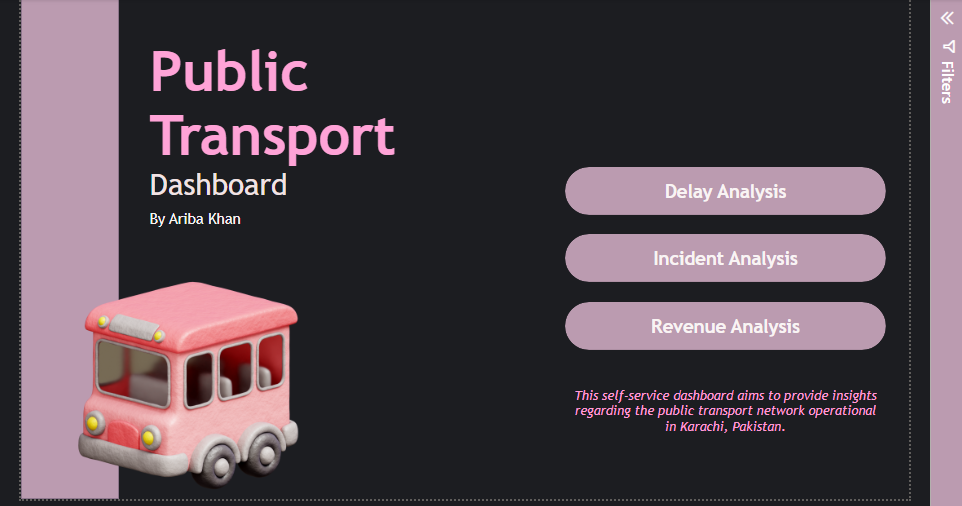

The dashboard page shown, as its layout file describes it:
{"tool":"powerbi","page":{"name":"Main Page","canvas":[1280,720],"ordinal":0},"visuals":[{"type":"textbox","box":[180,51.8,521.3,247.7],"z":0},{"type":"actionButton","title":"Delay Analysis","box":[783.4,241.9,462.2,69.1],"z":1000},{"type":"actionButton","title":"Delay Analysis","box":[783.4,338.4,462.2,69.1],"z":2000},{"type":"actionButton","title":"Delay Analysis","box":[783.4,436.3,462.2,69.1],"z":3000},{"type":"shape","box":[0,0,141.1,720],"z":4000},{"type":"textbox","box":[180,299.5,521.3,46.1],"z":5000},{"type":"image","box":[40.3,393.1,400.3,326.9],"z":6000},{"type":"textbox","box":[783.4,554.4,462.2,109.4],"z":7000}]}

Visuals, with their boxes on the page's 1280x720 design canvas (x1, y1, x2, y2). These are canvas units, not pixel positions in the 962x506 screenshot, which may show the page scaled, cropped or inside an application window:
textbox: [180, 52, 701, 300]
"Delay Analysis" actionButton: [783, 242, 1246, 311]
"Delay Analysis" actionButton: [783, 338, 1246, 408]
"Delay Analysis" actionButton: [783, 436, 1246, 505]
shape: [0, 0, 141, 720]
textbox: [180, 300, 701, 346]
image: [40, 393, 441, 720]
textbox: [783, 554, 1246, 664]
